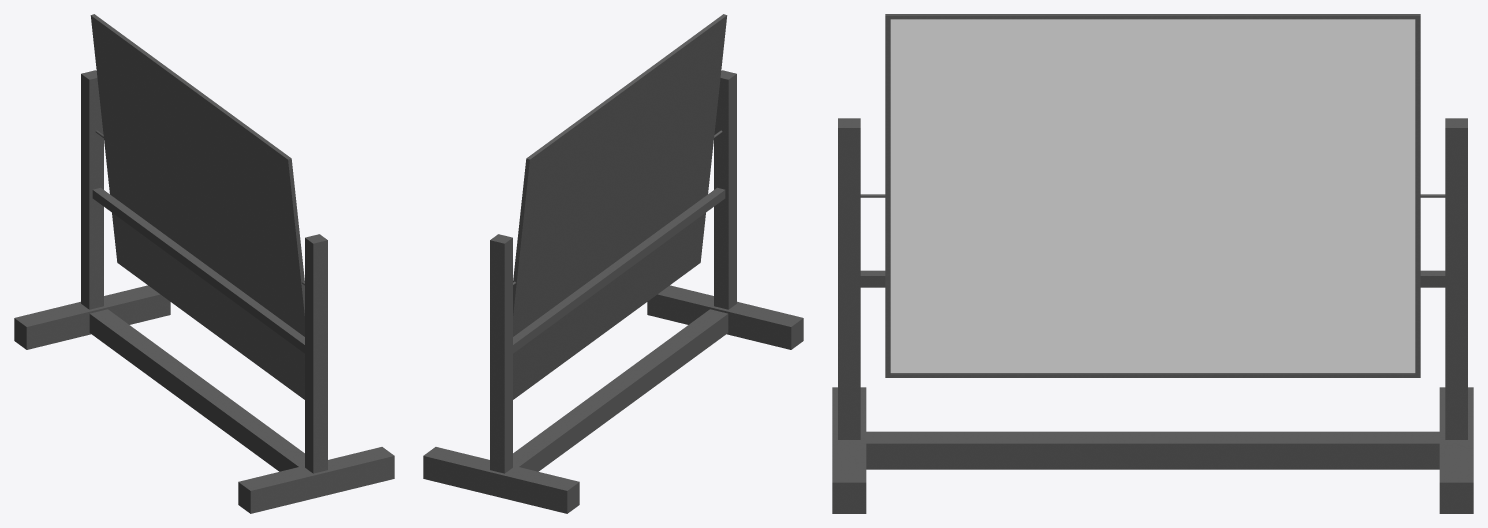
Rendered from whiteboard.obj.
3 renders of one model, left to right at view 1: azimuth 30°, elevation 25°; view 2: azimuth 150°, elevation 25°; view 3: azimuth 270°, elevation 25°, orthographic. The views are drawn at different scales.
Visible parts, largest first — view 1: board, whiteboard; view 2: board, whiteboard; view 3: board, whiteboard.
Part boxes in pixels (x1,y1,x2,y2): board: (90, 14, 304, 399); whiteboard: (14, 70, 394, 513); board: (513, 14, 727, 399); whiteboard: (423, 70, 803, 513); board: (885, 14, 1420, 377); whiteboard: (832, 118, 1473, 513).
Bounding box in the file's own units: 0.885 × 1.92 × 2.52.
2 materials, 2 textured.
